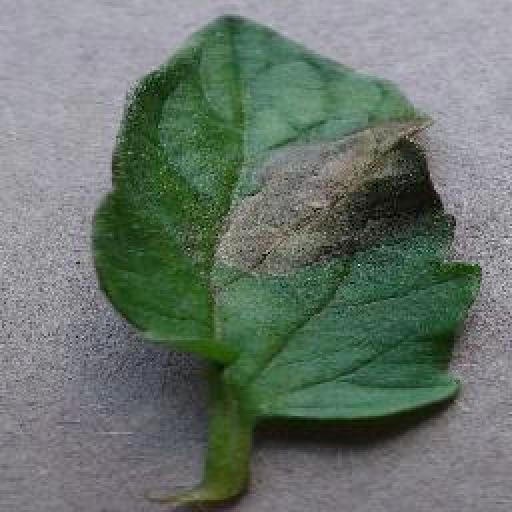disease_tomato: (90, 13, 482, 423)
